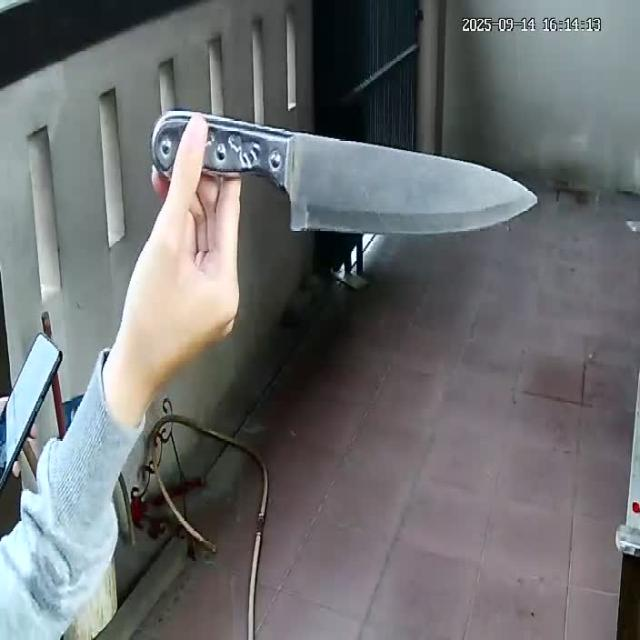senjata_tajam: (242, 124, 542, 235)
